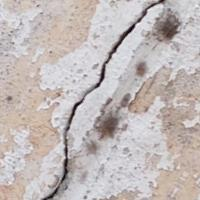crack: (44, 0, 162, 199)
